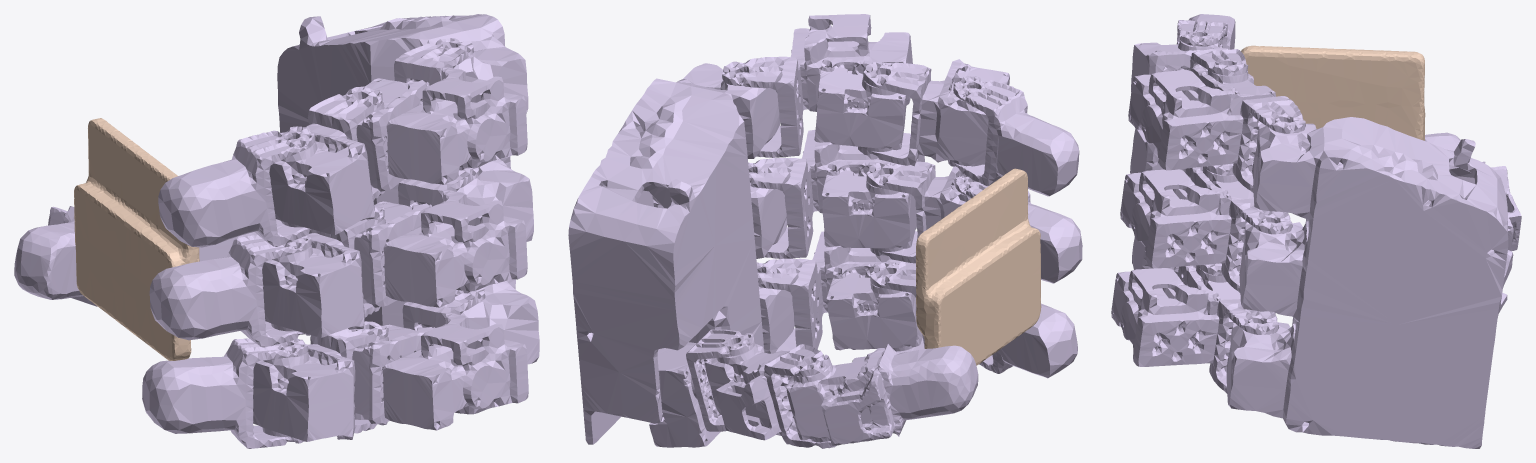
3 renders of one model, left to right at view 1: azimuth 30°, elevation 25°; view 2: azimuth 150°, elevation 25°; view 3: azimuth 270°, elevation 25°, orthographic. The views are drawn at different scales.
Visible parts, largest first — view 1: LEAP_hand, world; view 2: LEAP_hand, world; view 3: LEAP_hand, world.
Part boxes in pixels (left/top/right/bottom): LEAP_hand: left=14, top=14, right=539, bottom=448; world: left=74, top=118, right=199, bottom=360; LEAP_hand: left=568, top=14, right=1082, bottom=448; world: left=916, top=168, right=1041, bottom=365; LEAP_hand: left=1111, top=14, right=1521, bottom=448; world: left=1241, top=45, right=1425, bottom=140.
Bounding box in the file's own units: 0.1686 × 0.1434 × 0.1651.
